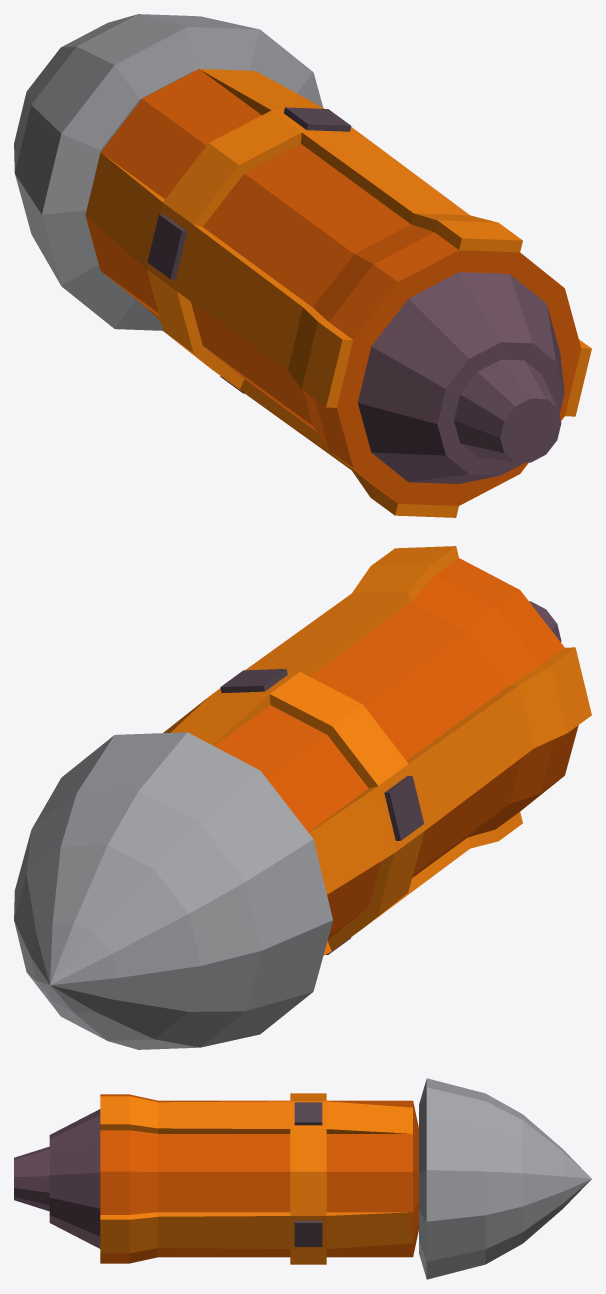
Rendered from Drill.fbx.
3 renders of one model, top to bottom at view 1: azimuth 30°, elevation 25°; view 2: azimuth 150°, elevation 25°; view 3: azimuth 270°, elevation 25°, orthographic. The views are drawn at different scales.
Visible parts, largest first — view 1: Cylinder, Cylinder.001; view 2: Cylinder, Cylinder.001; view 3: Cylinder, Cylinder.001.
Part boxes in pixels (x1,y1,x2,y2): Cylinder: [85, 69, 591, 517]; Cylinder.001: [14, 14, 323, 330]; Cylinder: [163, 546, 591, 955]; Cylinder.001: [14, 732, 332, 1049]; Cylinder: [14, 1093, 418, 1264]; Cylinder.001: [419, 1078, 591, 1279].
Bounding box in the file's own units: 470 × 1344 × 470.
